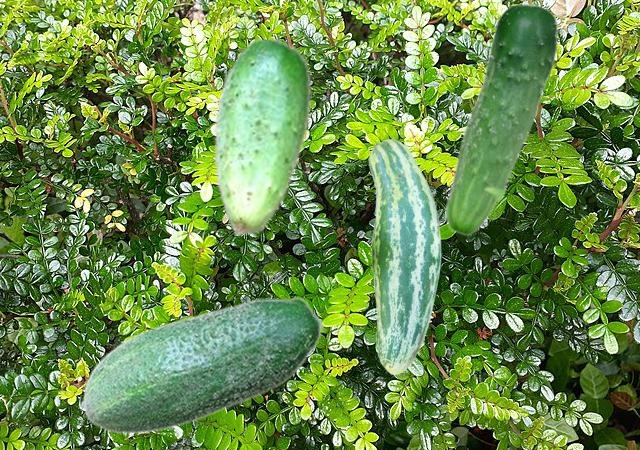cucumber: (82, 296, 323, 433), (443, 3, 558, 235), (213, 36, 310, 236), (368, 138, 440, 374)
